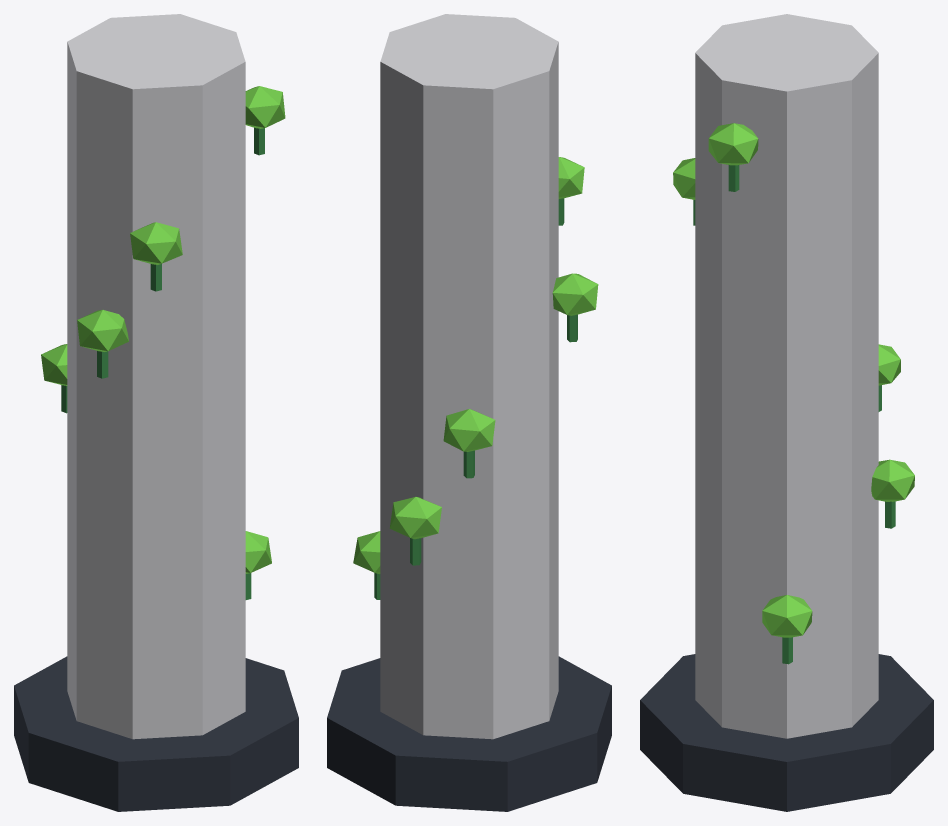
The model's file is hydro_vertical_tower.glb.
3 renders of one model, left to right at view 1: azimuth 30°, elevation 25°; view 2: azimuth 150°, elevation 25°; view 3: azimuth 270°, elevation 25°, orthographic.
Parts seen in each view (by area): view 1: vertical_tower; view 2: vertical_tower; view 3: vertical_tower.
Part boxes in pixels (box(x1,y1,x2,y2)): vertical_tower: box(14, 14, 298, 811); vertical_tower: box(327, 14, 611, 811); vertical_tower: box(640, 14, 933, 811).
Size of the model in its own units: 0.8 by 2.09 by 0.8.
